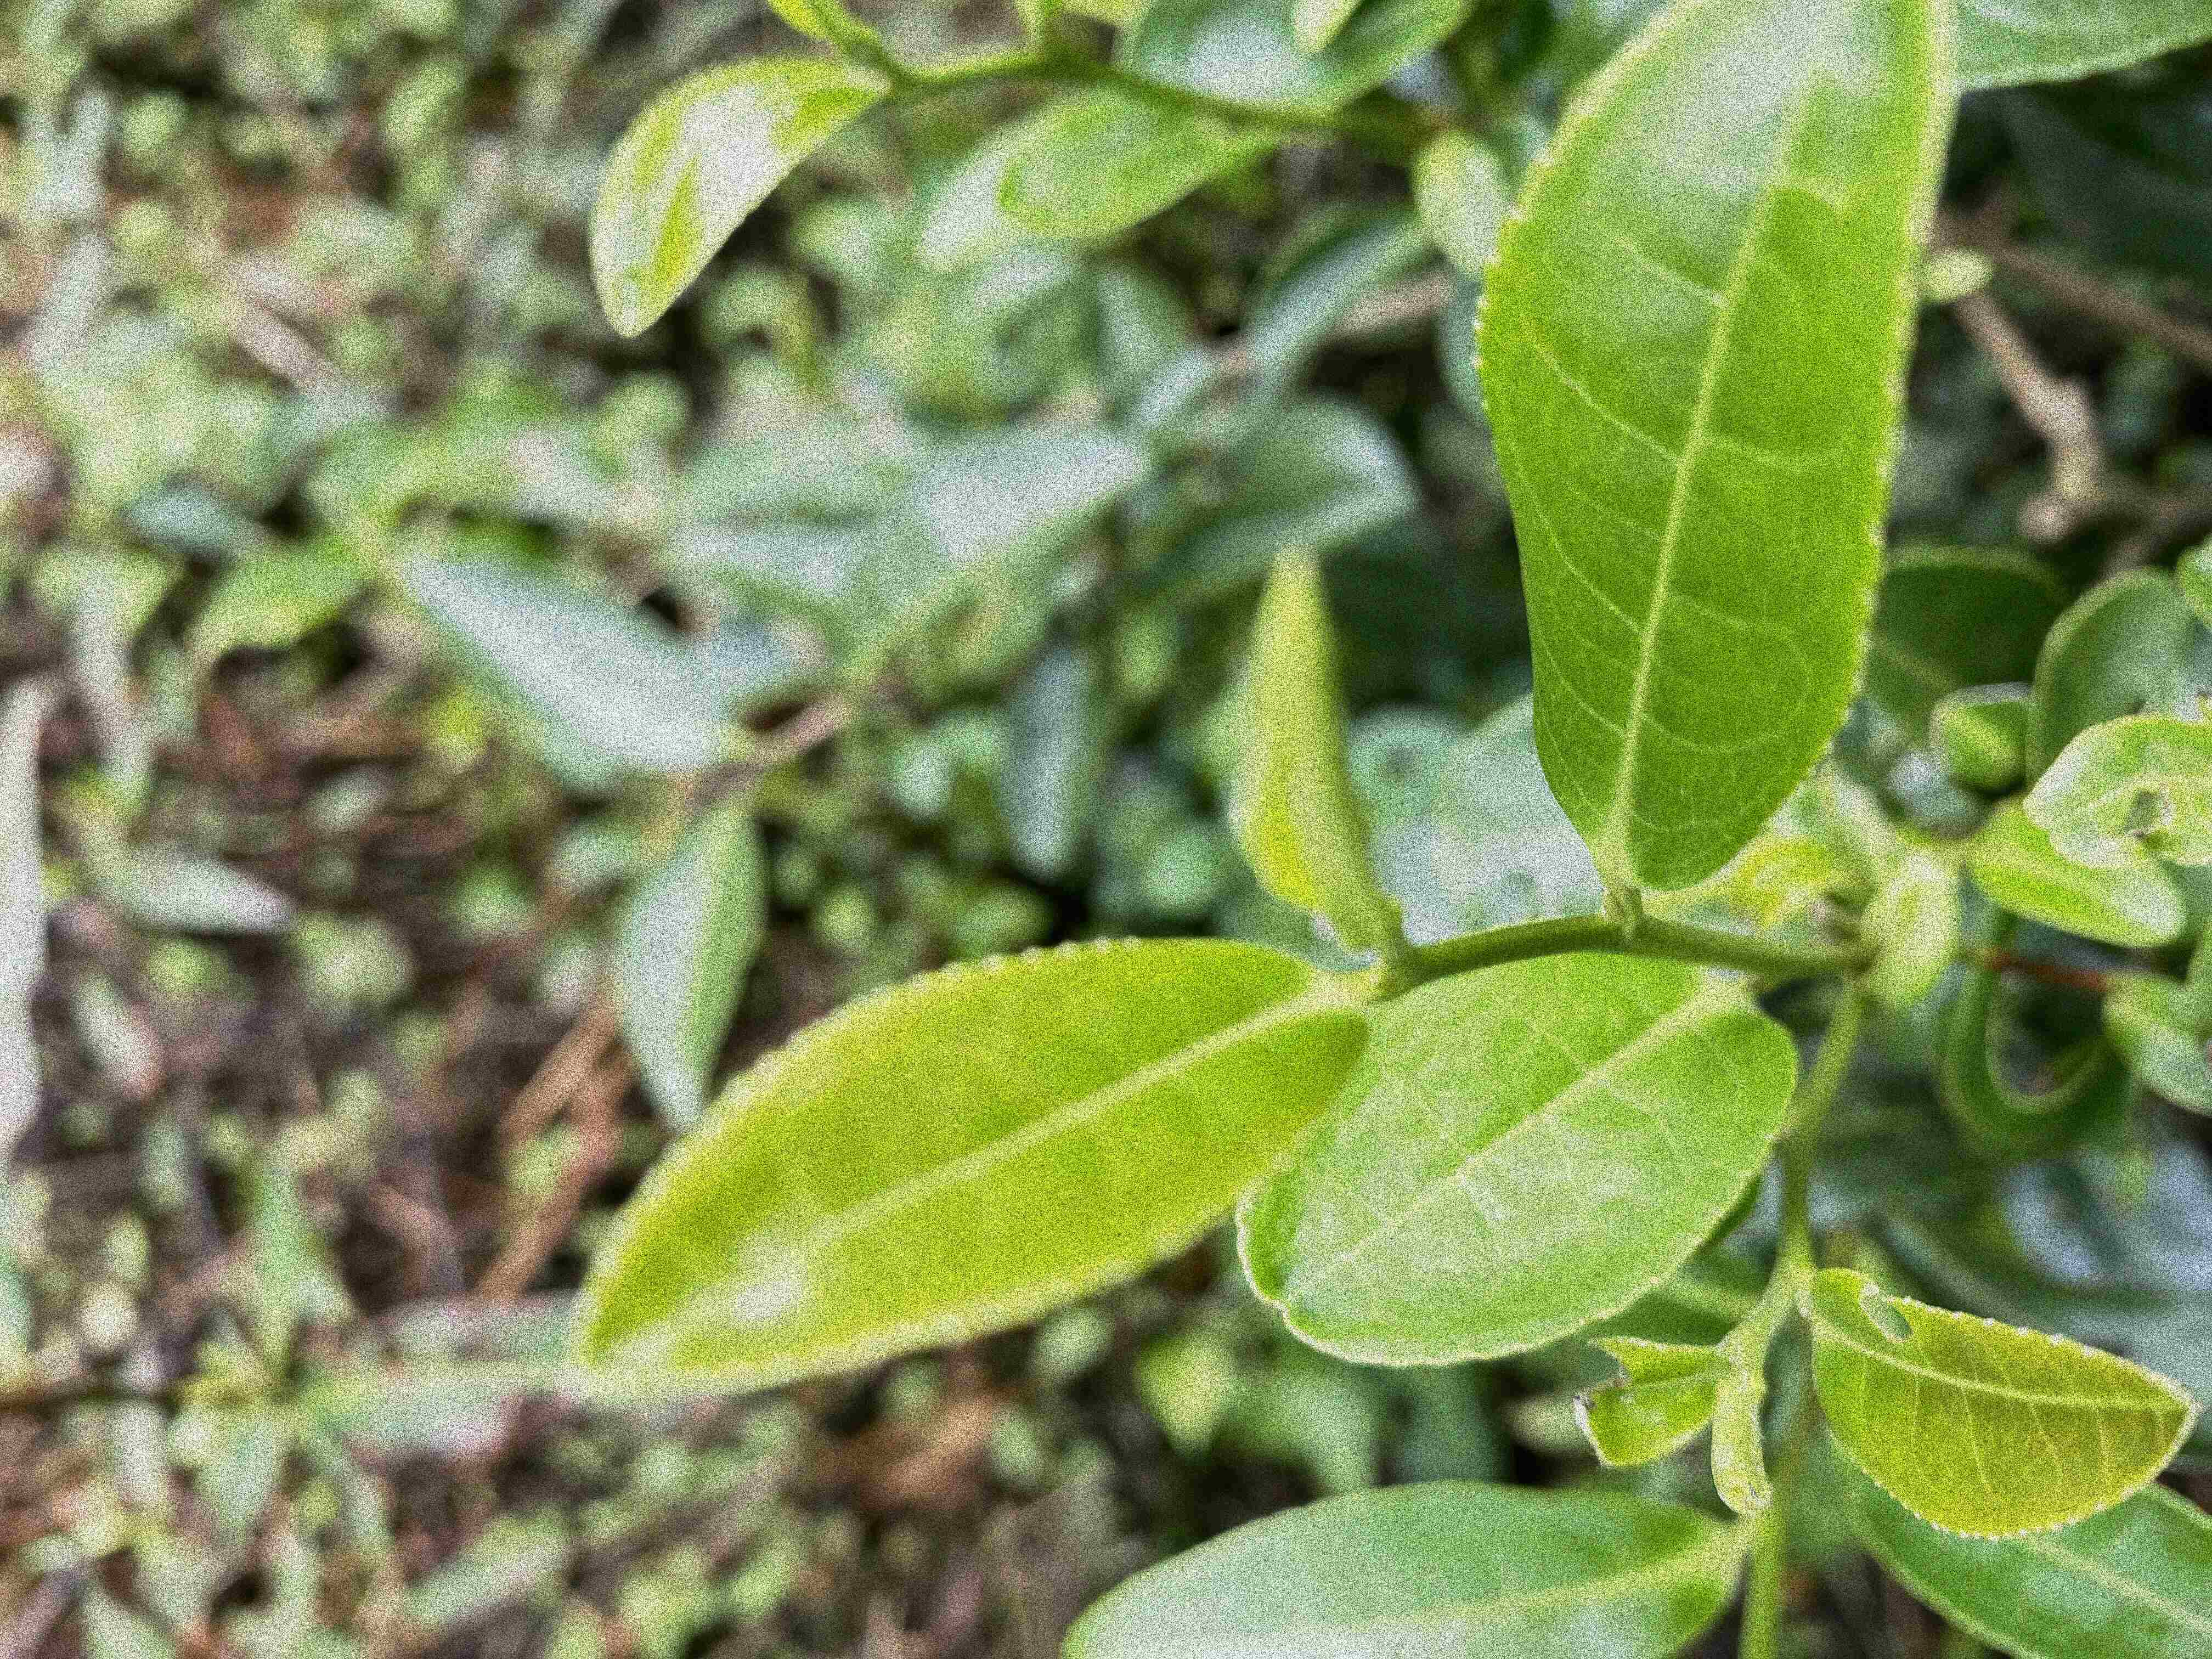chihuo_high: (2020, 714, 2212, 875), (1575, 1335, 1733, 1473)
chihuo_low: (1801, 1269, 2196, 1541)
healthy: (1470, 3, 1961, 894), (575, 934, 1367, 1391), (1231, 950, 1799, 1370)
